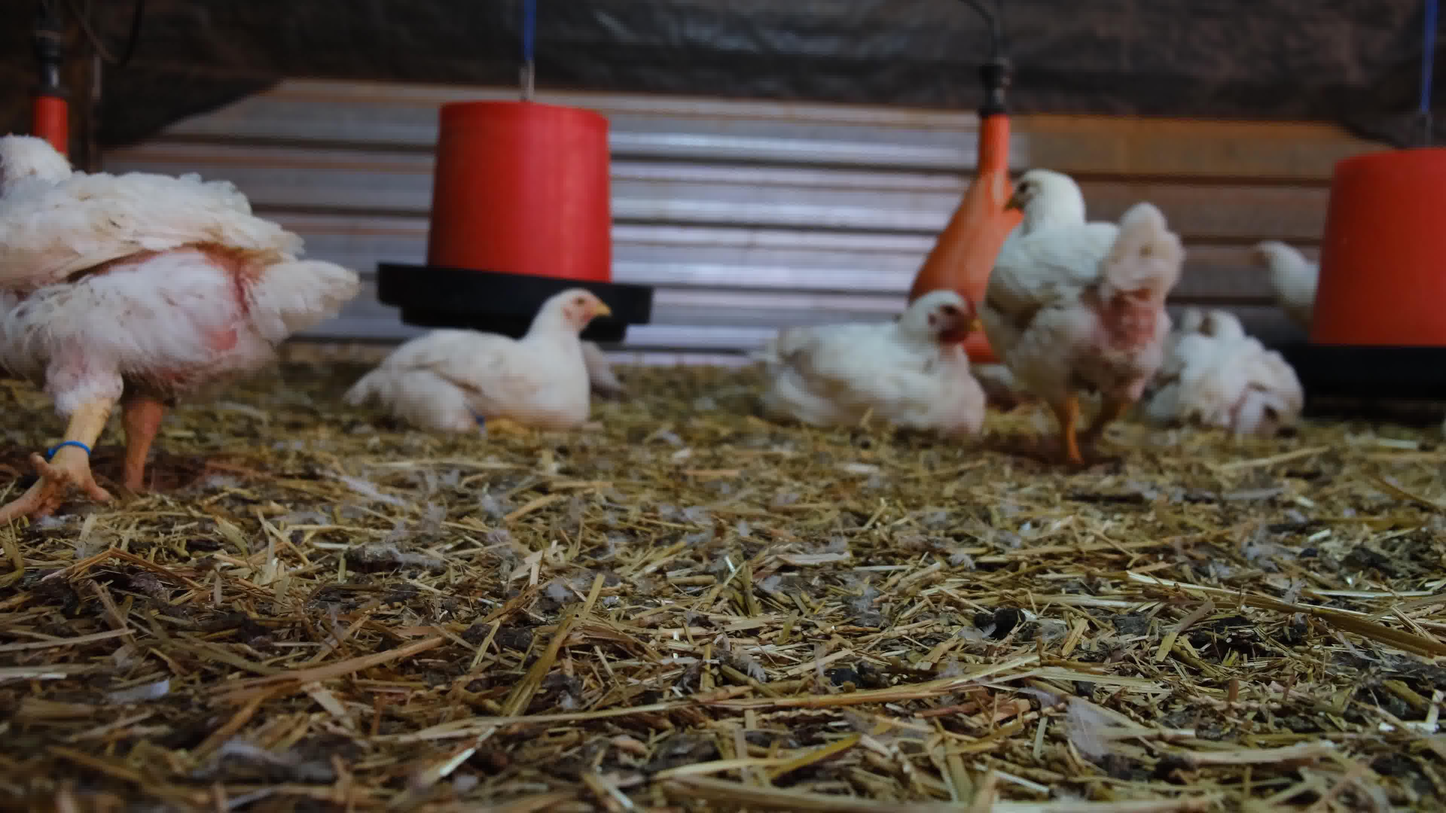AbNormal: (746, 290, 987, 447), (340, 286, 614, 422), (1144, 312, 1307, 433)
Normal: (0, 126, 353, 529), (983, 172, 1180, 473), (1241, 222, 1338, 304)
